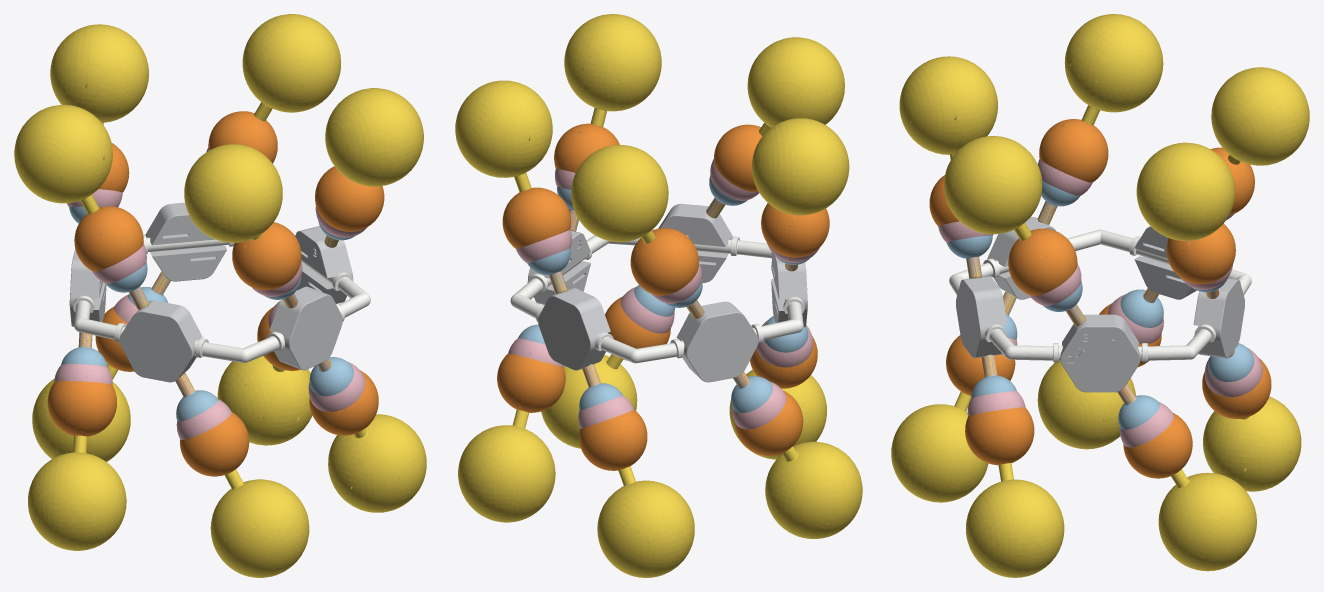
The picture shows the model from 3 angles, left to right: view 1: azimuth 30°, elevation 25°; view 2: azimuth 150°, elevation 25°; view 3: azimuth 270°, elevation 25°; orthographic projection.
Visible parts, largest first — view 1: Arm_Bead27_U04, Arm_Bead27_L03, Arm_Bead27_L04, Arm_Bead27_U02, Arm_Bead27_U01, Arm_Bead27_U05, Arm_Bead27_U03, Arm_Bead27_L05, Arm_Bead27_L01, Hexagonal_Body_04, Ring_Frame, Hexagonal_Body_05 (+25 smaller); view 2: Arm_Bead27_L02, Arm_Bead27_U02, Arm_Bead27_U01, Arm_Bead27_L01, Arm_Bead27_U03, Arm_Bead27_L03, Arm_Bead27_U04, Arm_Bead27_U05, Ring_Frame, Hexagonal_Body_03, Hexagonal_Body_02, Arm_Bead19_U03 (+27 smaller); view 3: Arm_Bead27_L05, Arm_Bead27_U04, Arm_Bead27_U01, Arm_Bead27_L01, Arm_Bead27_U03, Arm_Bead27_U02, Arm_Bead27_U05, Arm_Bead27_L04, Arm_Bead27_L02, Arm_Bead27_L03, Hexagonal_Body_01, Ring_Frame (+27 smaller).
Boxes of the visible parts, <box> form: Arm_Bead27_U04: <box>14,105,148,309</box>; Arm_Bead27_L03: <box>28,332,126,550</box>; Arm_Bead27_L04: <box>176,373,309,577</box>; Arm_Bead27_U02: <box>242,14,340,121</box>; Arm_Bead27_U01: <box>325,88,423,247</box>; Arm_Bead27_U05: <box>184,144,297,308</box>; Arm_Bead27_U03: <box>50,24,148,124</box>; Arm_Bead27_L05: <box>318,359,426,512</box>; Arm_Bead27_L01: <box>217,356,312,445</box>; Hexagonal_Body_04: <box>119,300,202,382</box>; Ring_Frame: <box>73,234,370,362</box>; Hexagonal_Body_05: <box>269,286,342,370</box>; Arm_Bead27_L02: <box>583,364,694,577</box>; Arm_Bead27_U02: <box>455,80,567,293</box>; Arm_Bead27_U01: <box>564,14,661,231</box>; Arm_Bead27_L01: <box>458,409,555,522</box>; Arm_Bead27_U03: <box>571,145,704,318</box>; Arm_Bead27_L03: <box>734,372,862,538</box>; Arm_Bead27_U04: <box>751,118,849,271</box>; Arm_Bead27_U05: <box>706,37,844,218</box>; Ring_Frame: <box>510,229,804,363</box>; Hexagonal_Body_03: <box>676,301,758,382</box>; Hexagonal_Body_02: <box>538,288,610,370</box>; Arm_Bead19_U03: <box>630,228,704,318</box>; Arm_Bead27_L05: <box>966,355,1064,577</box>; Arm_Bead27_U04: <box>1038,14,1163,224</box>; Arm_Bead27_U01: <box>944,136,1085,326</box>; Arm_Bead27_L01: <box>1117,384,1256,571</box>; Arm_Bead27_U03: <box>1211,67,1309,165</box>; Arm_Bead27_U02: <box>1136,142,1234,298</box>; Arm_Bead27_U05: <box>899,56,997,278</box>; Arm_Bead27_L04: <box>891,292,1015,502</box>; Arm_Bead27_L02: <box>1203,352,1301,491</box>; Arm_Bead27_L03: <box>1037,288,1158,449</box>; Hexagonal_Body_01: <box>1060,314,1140,392</box>; Ring_Frame: <box>949,229,1251,362</box>.
Bounding box in the file's own units: 0.1104 × 0.1288 × 0.1147.
